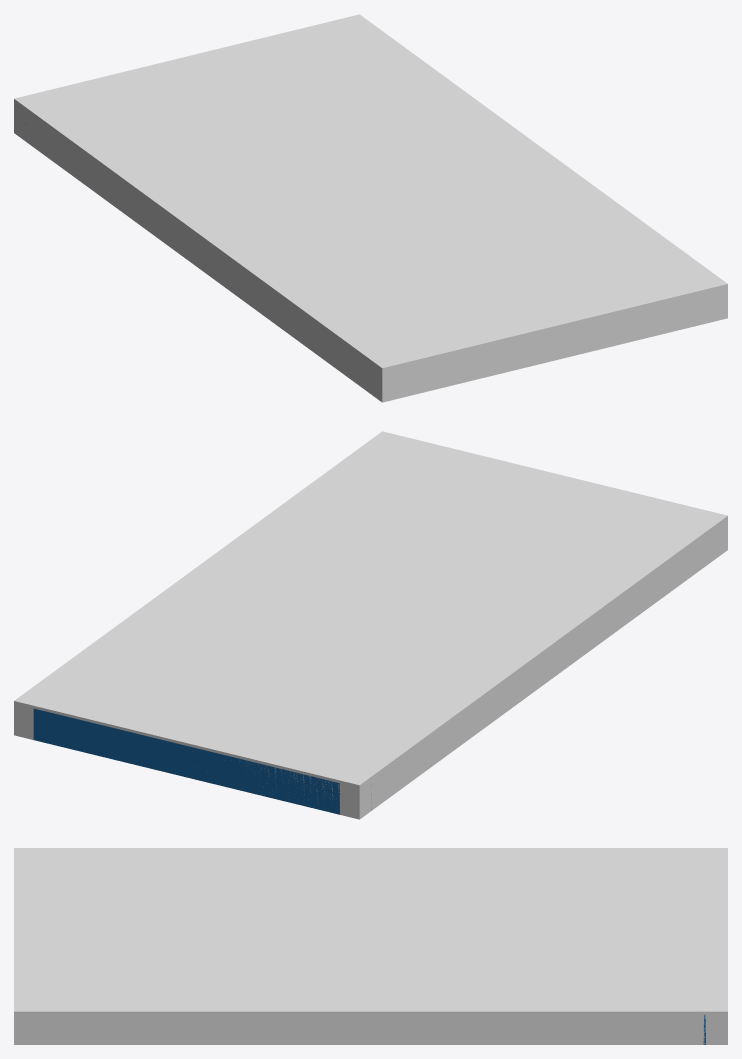
The model's file is MeCo_Gravel_Large.gltf.
3 renders of one model, top to bottom at view 1: azimuth 30°, elevation 25°; view 2: azimuth 150°, elevation 25°; view 3: azimuth 270°, elevation 25°, orthographic. The views are drawn at different scales.
Parts seen in each view (by area): view 1: MeCo_Gravel_Large_bcol; view 2: MeCo_Gravel_Large_bcol, MeCo_Gravel_Large.001; view 3: MeCo_Gravel_Large_bcol.
Boxes of the visible parts, x1,y1,x2,y2 form: MeCo_Gravel_Large_bcol: (14, 14, 727, 402); MeCo_Gravel_Large_bcol: (14, 431, 727, 819); MeCo_Gravel_Large.001: (33, 708, 371, 814); MeCo_Gravel_Large_bcol: (14, 848, 727, 1044).
Size of the model in its own units: 2.42 by 0.2297 by 4.46.
